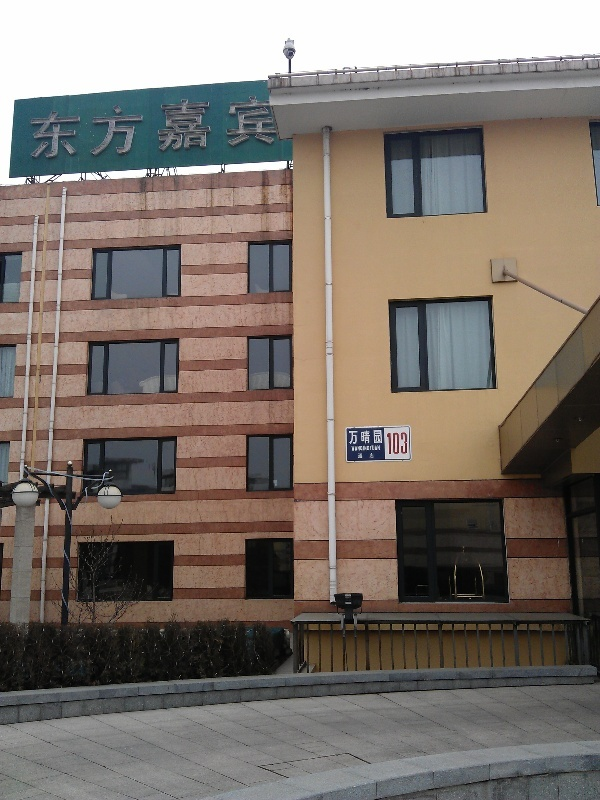text: (33, 92, 48, 161), (49, 92, 64, 161), (65, 92, 80, 161), (81, 92, 96, 161), (97, 92, 112, 161), (113, 92, 128, 161), (129, 92, 144, 161), (145, 92, 160, 161), (161, 92, 176, 161), (177, 92, 192, 161), (193, 92, 208, 161), (209, 92, 224, 161), (225, 92, 240, 161), (241, 92, 256, 161), (257, 92, 272, 161), (273, 92, 278, 161), (387, 431, 400, 455), (353, 430, 368, 445), (369, 430, 384, 445), (401, 431, 409, 455), (353, 445, 368, 452), (369, 445, 381, 452), (348, 430, 352, 445), (358, 453, 368, 459), (369, 453, 375, 459)
